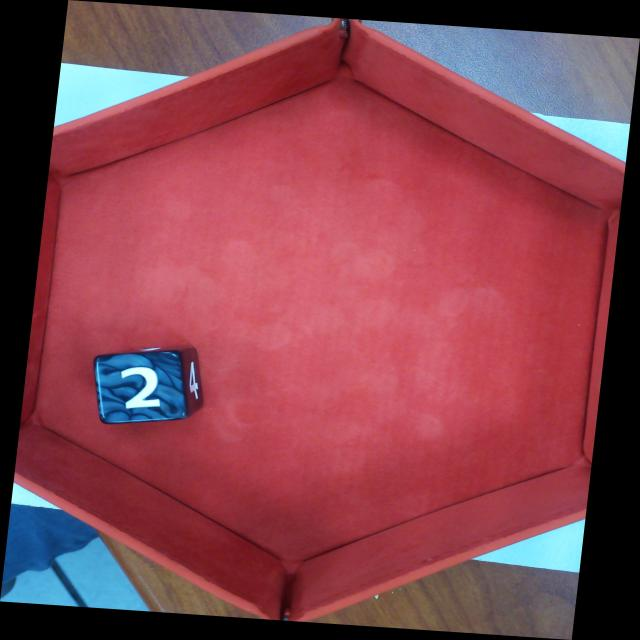dice: (96, 351, 187, 424)
